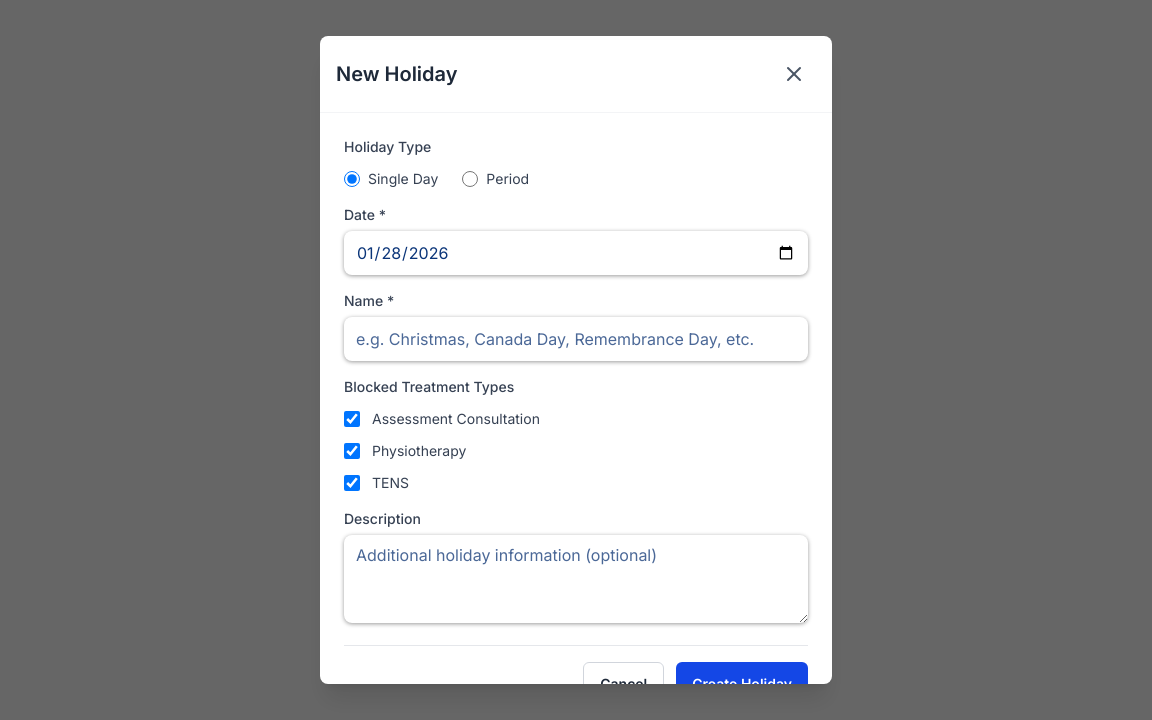
Scenario: HolidayFormModal › Holiday Period Mode › should validate period date range
Click the text "Period" at (496, 179), box [462,169,529,189]
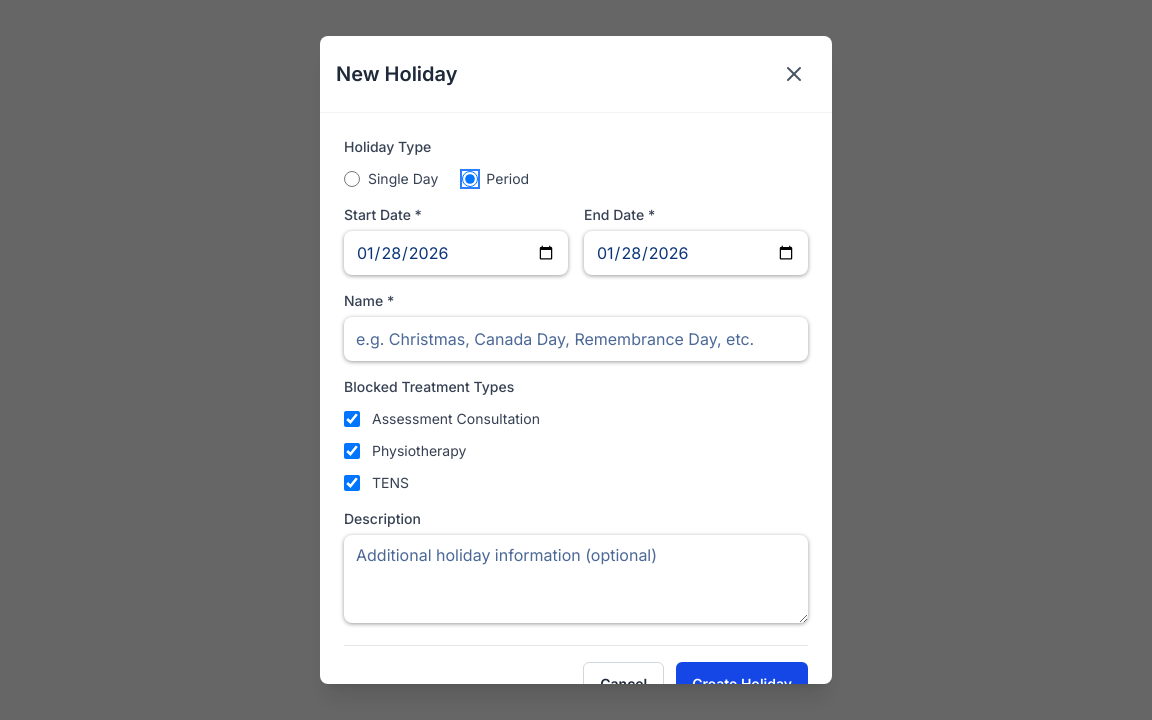
Type "Test Period" into the field labelled "Name *" at (576, 339), box [344,317,808,361]
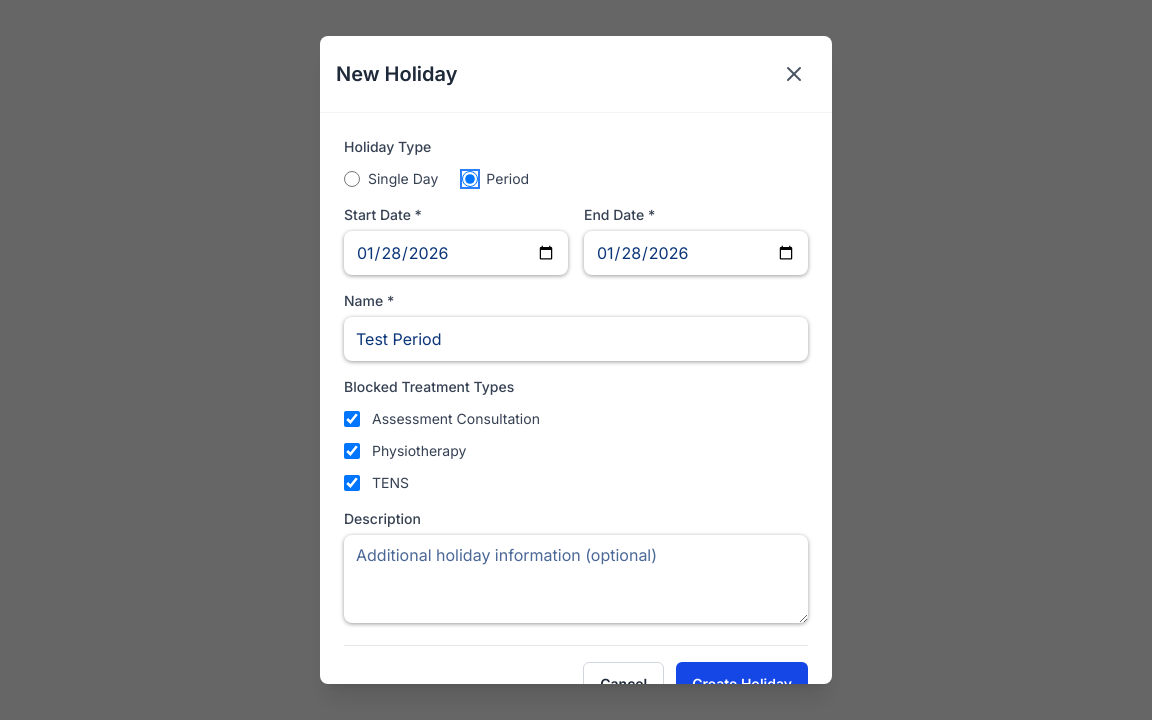
Type "2026-02-03" into the date field labelled "Start Date *" at (456, 253), box [344,231,568,275]
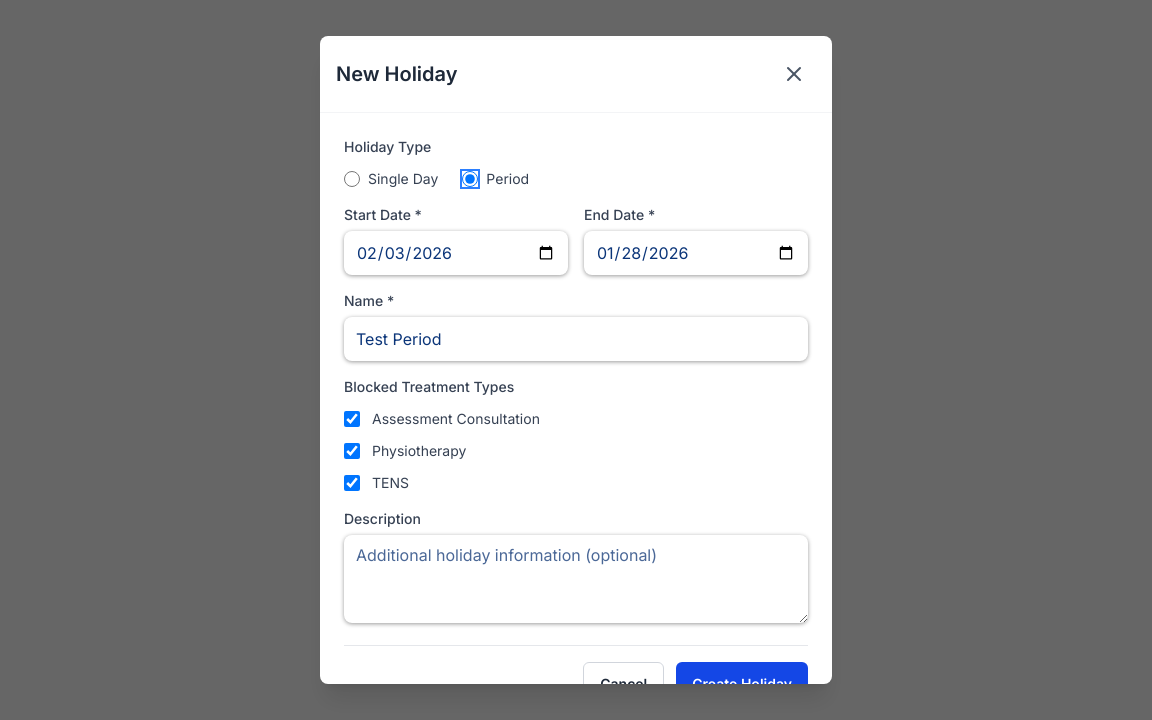
Type "2026-02-01" into the date field labelled "End Date *" at (696, 253), box [584,231,808,275]
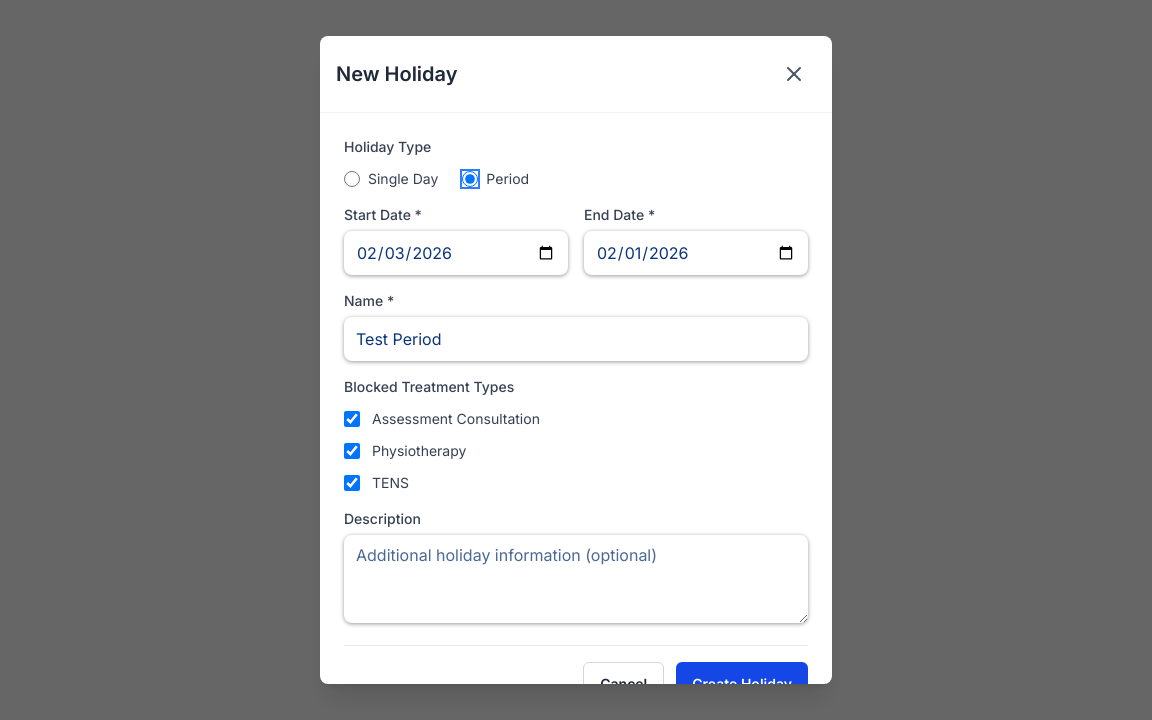
Expected: the text "Create Holiday" is shown, [676,662,808,706]
Submit the text "Create Holiday", box [320,113,832,684]
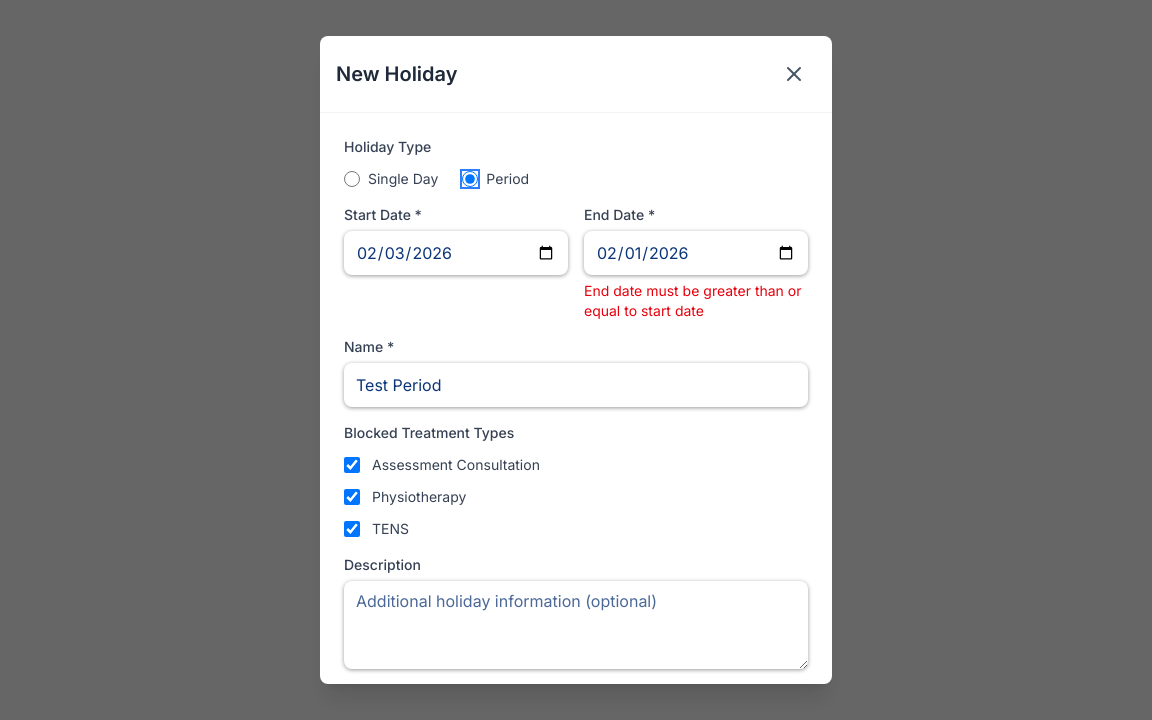
Now the text "End date must be greater than or equal to start date" is shown, box [584,281,808,321]
